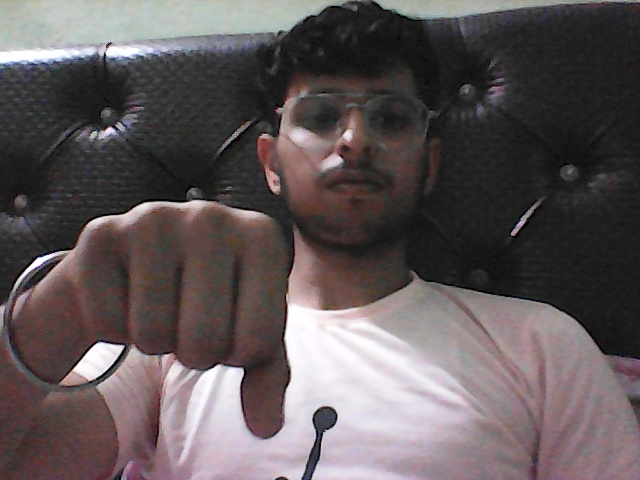yes: (11, 170, 295, 438)
